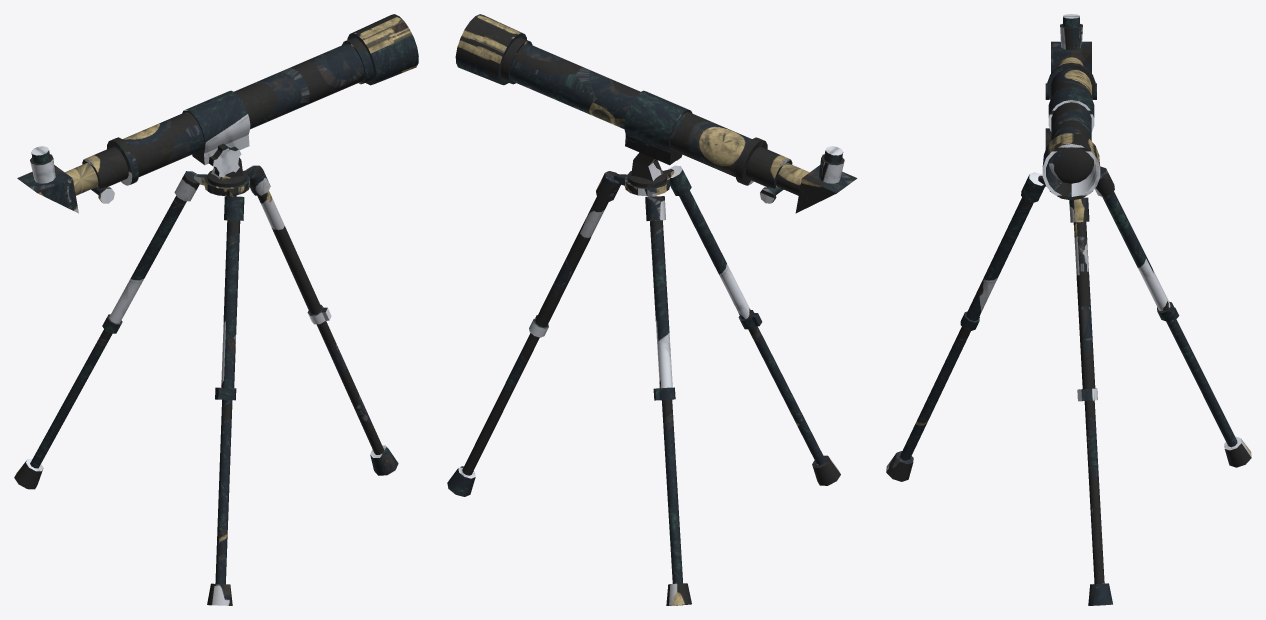
The model's file is telescope.obj.
3 renders of one model, left to right at view 1: azimuth 30°, elevation 25°; view 2: azimuth 150°, elevation 25°; view 3: azimuth 270°, elevation 25°, orthographic.
Parts seen in each view (by area): view 1: Sketchfab_Model; view 2: Sketchfab_Model; view 3: Sketchfab_Model.
Boxes of the visible parts, <box> form: Sketchfab_Model: <box>14,14,418,605</box>; Sketchfab_Model: <box>447,14,857,605</box>; Sketchfab_Model: <box>886,14,1251,605</box>.
Size of the model in its own units: 181 by 210 by 150.
